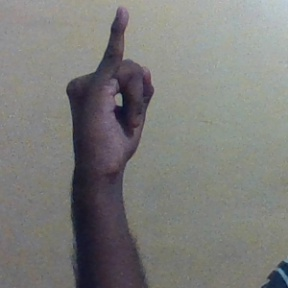I: (67, 7, 158, 171)
